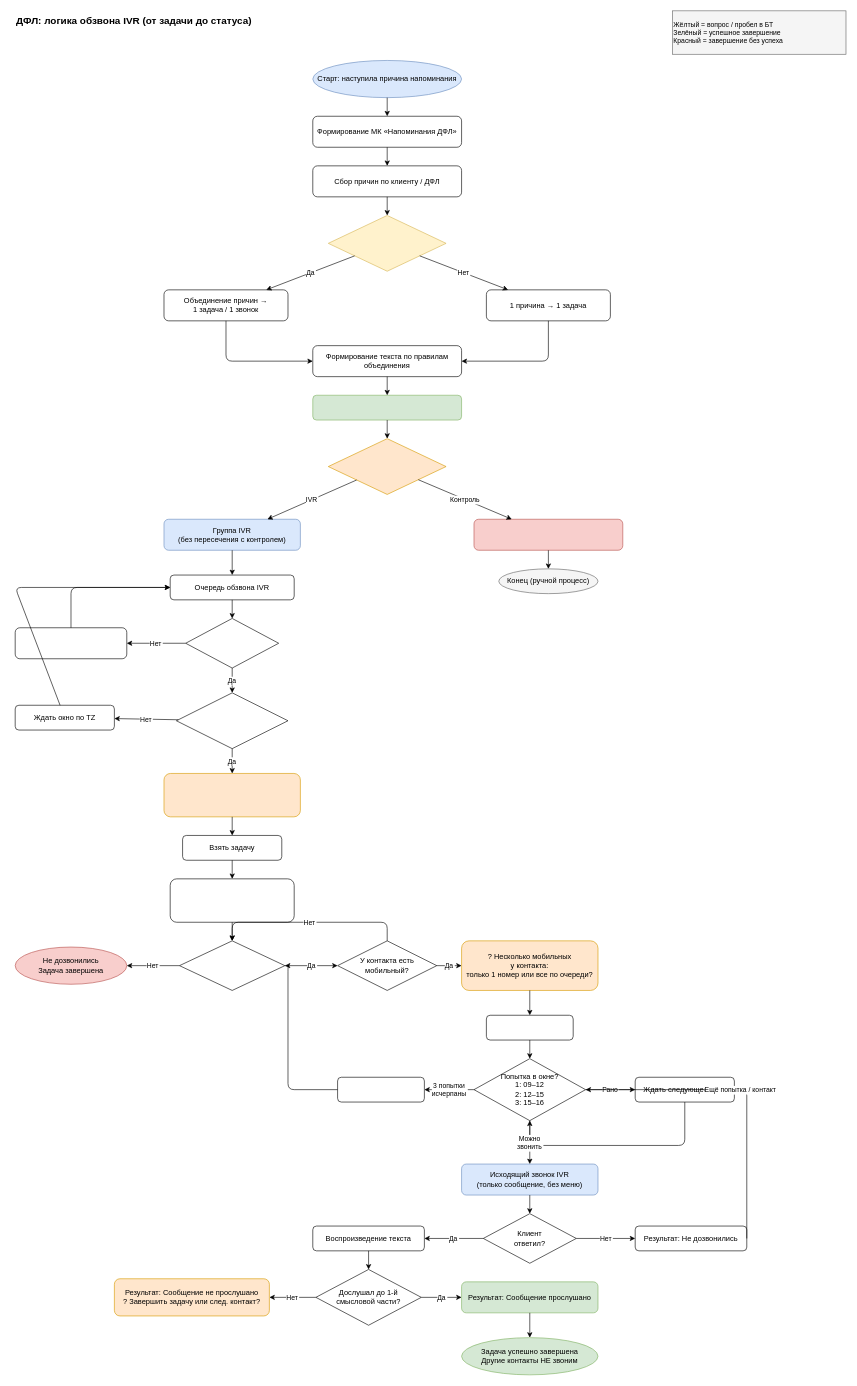
Image size: 857x1386. Some labels were removed from this diagram. Here are the shapes that lost their labels. From the top down, the centre of each, then its label:
At [387,243]: "Несколько причин у одного клиента?".
At [387,407]: "Задача создана в МК".
At [387,466]: "A/B тест? (нужно явно в БТ)".
At [548,534]: "Группа контроль / ручной (клиенты НЕ пересекаются с IVR)".
At [71,643]: "Перенос на 1-й рабочий день".
At [232,643]: "День рабочий?".
At [232,720]: "Время 09:00–18:00 по TZ клиента?".
At [231,795]: "? Когда стартовать обзвон: сразу с 09:00 / равномерно / строго по окнам попыток?".
At [232,900]: "Приоритет контактов: 1) ОКПл + ЛПР 2) роли карточки".
At [232,965]: "Есть следующий контакт?".
At [529,1027]: "Выбрать номер".
At [380,1089]: "След. контакт".
